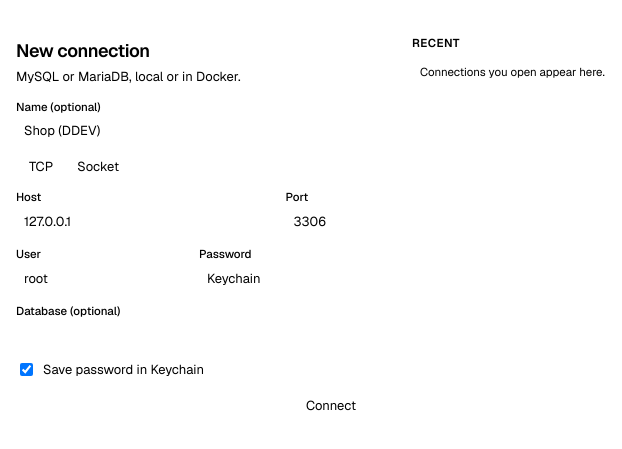
Test case: ConnectScreen › shows connection errors inline
Click the button "Connect": (331, 405) [290,391,372,419]
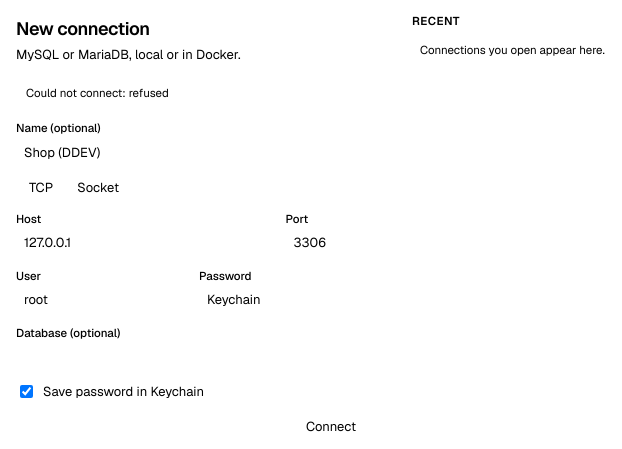
Now the message reads "Could not connect: refused", box [26,85,169,100]
